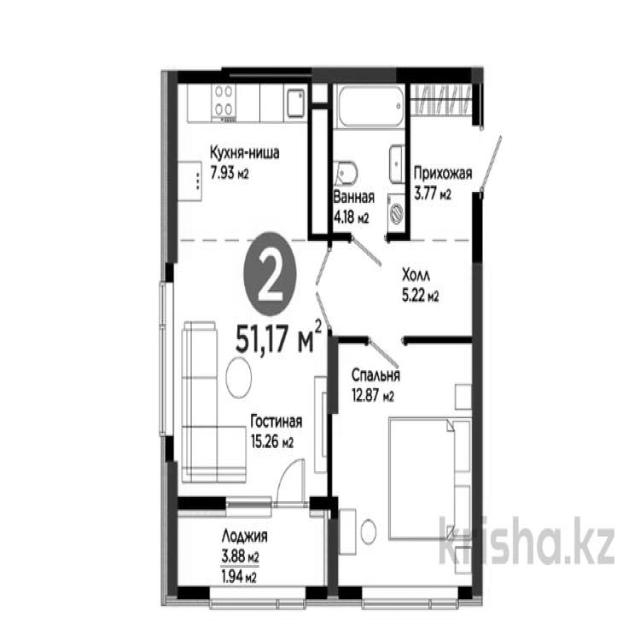balcony: (168, 504, 334, 596)
bathroom: (330, 72, 408, 236)
hallway: (326, 236, 482, 340), (407, 72, 482, 242)
living_room: (332, 337, 478, 595)
studio: (169, 74, 331, 508)
